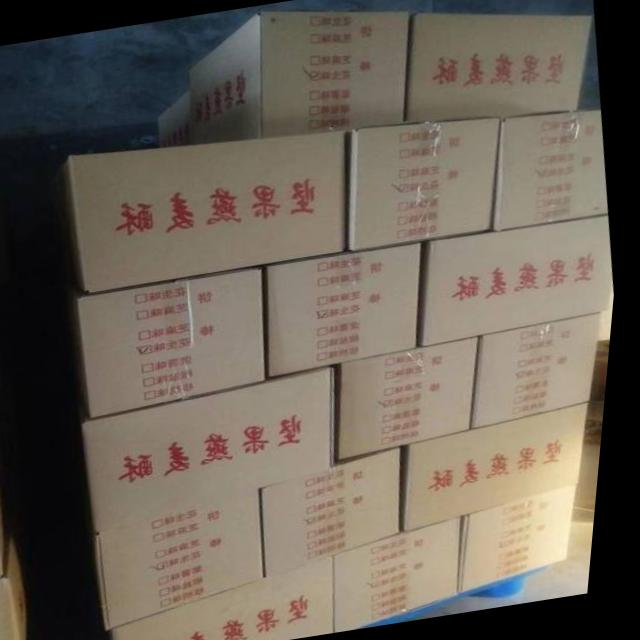box: (62, 130, 353, 294), (90, 364, 343, 536), (82, 266, 274, 419), (189, 11, 409, 143), (426, 215, 618, 347), (410, 402, 596, 533), (104, 489, 275, 631), (269, 241, 425, 378), (408, 12, 592, 123), (352, 116, 500, 251), (269, 447, 411, 578), (121, 557, 344, 640), (346, 336, 485, 460), (479, 313, 608, 429), (342, 517, 470, 633), (497, 108, 612, 231), (471, 485, 586, 594)
